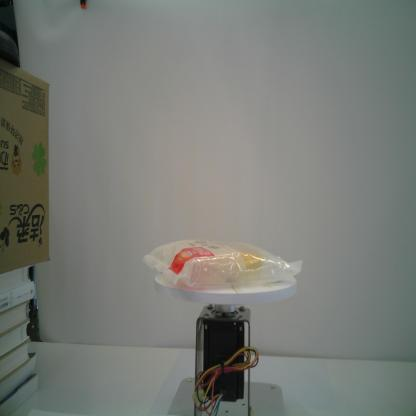Dessert: (141, 237, 304, 292)
